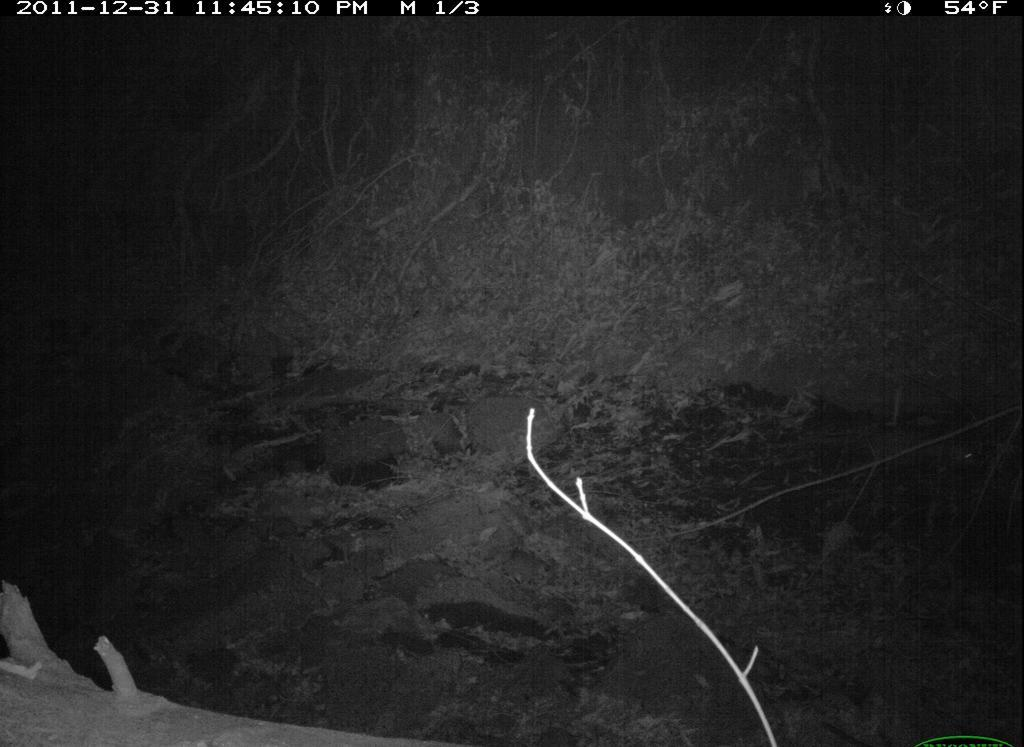opossum: (830, 407, 993, 497)
